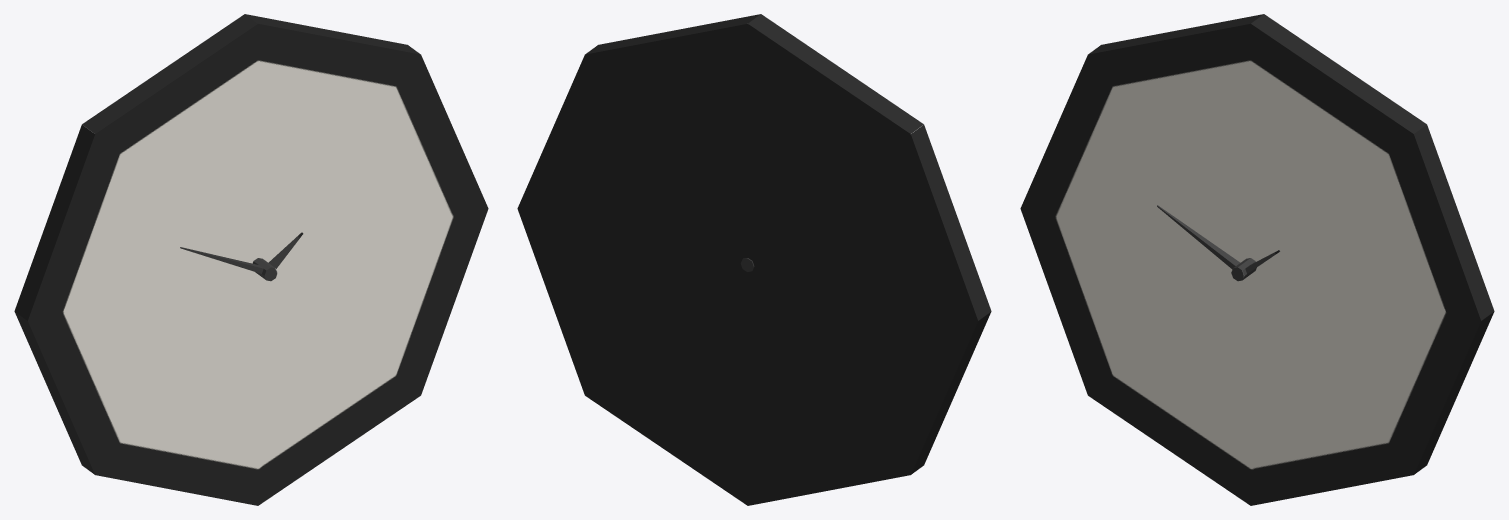
File: Clock.fbx
3 renders of one model, left to right at view 1: azimuth 30°, elevation 25°; view 2: azimuth 150°, elevation 25°; view 3: azimuth 330°, elevation 25°, orthographic.
Parts seen in each view (by area): view 1: pCylinder3; view 2: pCylinder3; view 3: pCylinder3.
Part boxes in pixels (x1,y1,x2,y2): pCylinder3: (14,14,488,505); pCylinder3: (517,14,991,505); pCylinder3: (1020,14,1494,505).
Bounding box in the file's own units: 40 × 40 × 4.04.
Materials: 1 (1 with a texture image).
